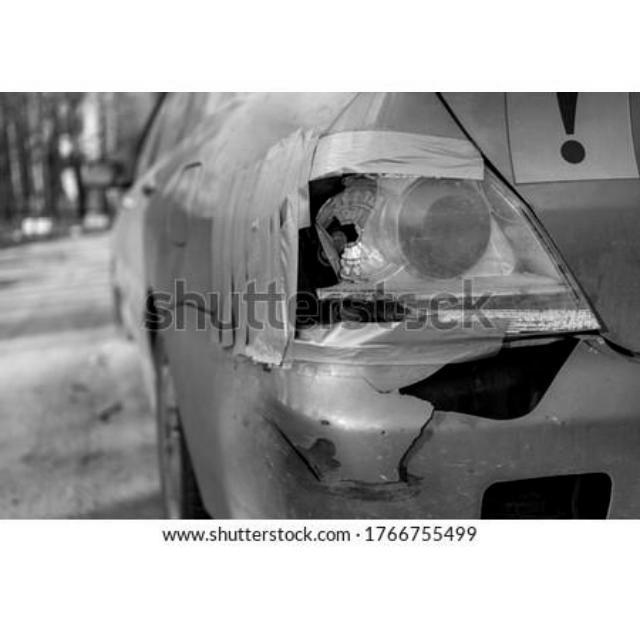Taillight-Damage: (249, 131, 433, 371)
rear-bumper-dent: (254, 327, 620, 511)
